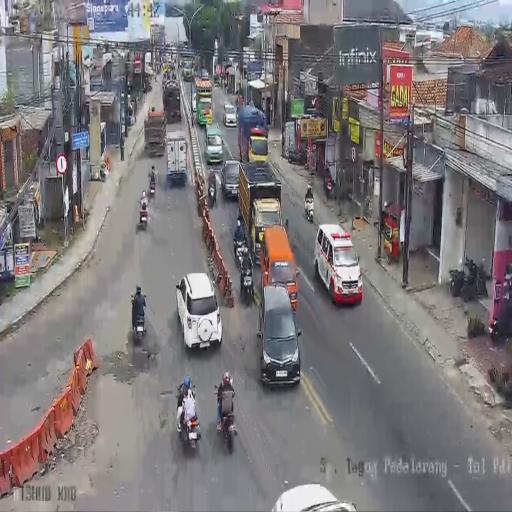car: (258, 285, 301, 384), (315, 222, 364, 306), (176, 272, 222, 350), (271, 482, 358, 512), (204, 123, 224, 166), (221, 158, 239, 200), (248, 132, 269, 165), (223, 102, 238, 127), (192, 66, 198, 79)
motorcycle: (175, 382, 201, 454), (215, 382, 238, 452), (489, 280, 512, 341), (130, 291, 146, 340), (233, 232, 248, 276), (208, 171, 218, 206), (287, 147, 305, 166), (139, 197, 149, 229), (304, 194, 314, 223), (149, 168, 156, 197)
truck: (236, 161, 281, 264), (166, 134, 188, 187), (144, 108, 166, 158), (193, 76, 213, 127), (163, 77, 182, 124), (144, 51, 153, 74), (183, 64, 193, 82)
